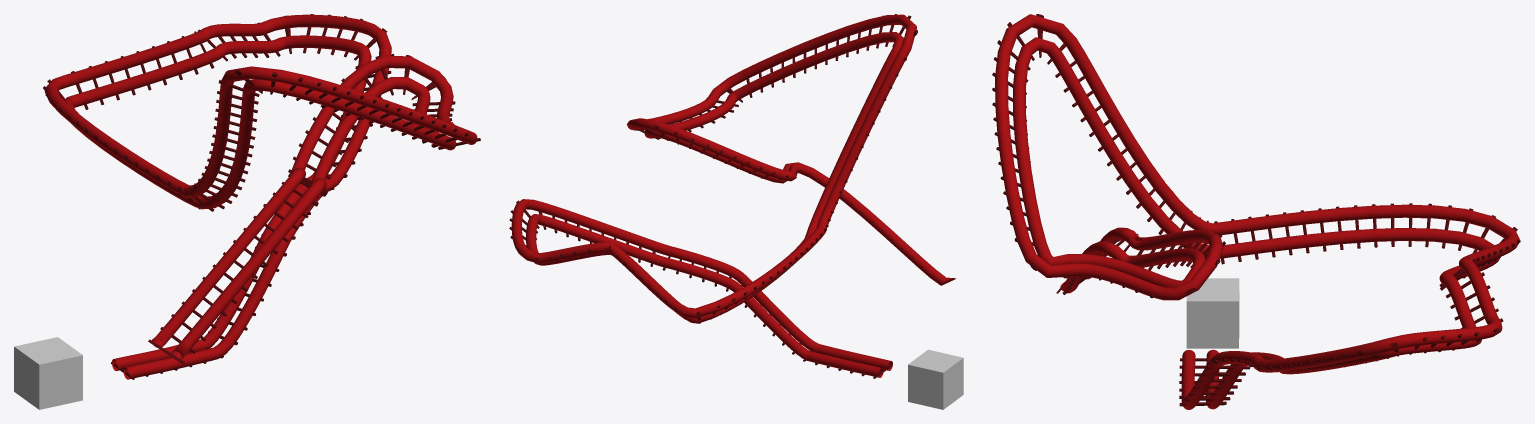
The model's file is montana.obj.
The picture shows the model from 3 angles, left to right: view 1: azimuth 30°, elevation 25°; view 2: azimuth 150°, elevation 25°; view 3: azimuth 270°, elevation 25°; orthographic projection. The views are drawn at different scales.
Parts seen in each view (by area): view 1: BezierCurve_BezierCurve.002, Cylinder, Cube_Cube.001; view 2: BezierCurve_BezierCurve.002, Cube_Cube.001, Cylinder; view 3: BezierCurve_BezierCurve.002, Cylinder, Cube_Cube.001.
Part boxes in pixels (bbox=[...]): BezierCurve_BezierCurve.002: bbox=[44, 14, 477, 379]; Cylinder: bbox=[43, 14, 480, 379]; Cube_Cube.001: bbox=[14, 337, 82, 409]; BezierCurve_BezierCurve.002: bbox=[511, 14, 954, 377]; Cube_Cube.001: bbox=[908, 349, 963, 409]; Cylinder: bbox=[509, 14, 955, 378]; BezierCurve_BezierCurve.002: bbox=[995, 14, 1519, 409]; Cylinder: bbox=[992, 14, 1520, 406]; Cube_Cube.001: bbox=[1186, 278, 1239, 348].
Size of the model in its own units: 20.62 by 16.13 by 20.23.
